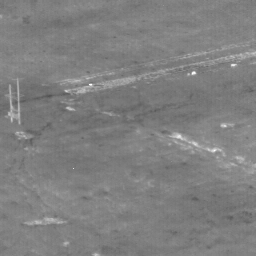aircraft: (90, 84, 92, 86)
